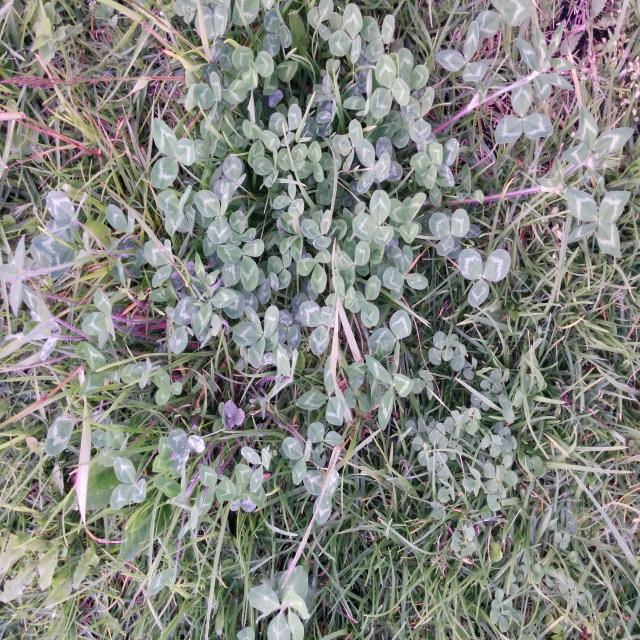Four Leaf Clover: (232, 305, 279, 368)
